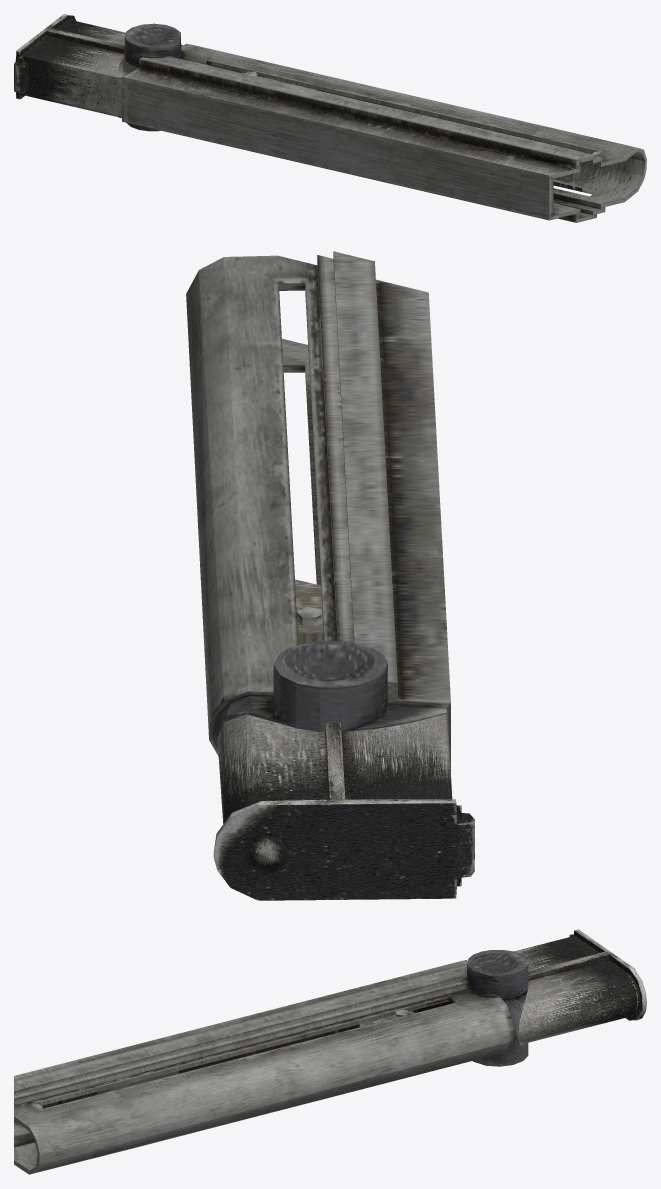
File: MagLugerExtSm_Ground.fbx
The picture shows the model from 3 angles, top to bottom: view 1: azimuth 30°, elevation 25°; view 2: azimuth 150°, elevation 25°; view 3: azimuth 270°, elevation 25°; orthographic projection. The views are drawn at different scales.
Visible parts, largest first — view 1: MagLugerExt; view 2: MagLugerExt; view 3: MagLugerExt.
Part boxes in pixels (x1,y1,x2,y2): MagLugerExt: (14, 14, 646, 222); MagLugerExt: (186, 251, 474, 900); MagLugerExt: (14, 929, 646, 1174).
Size of the model in its own units: 0.0932 by 0.0192 by 0.1213.
